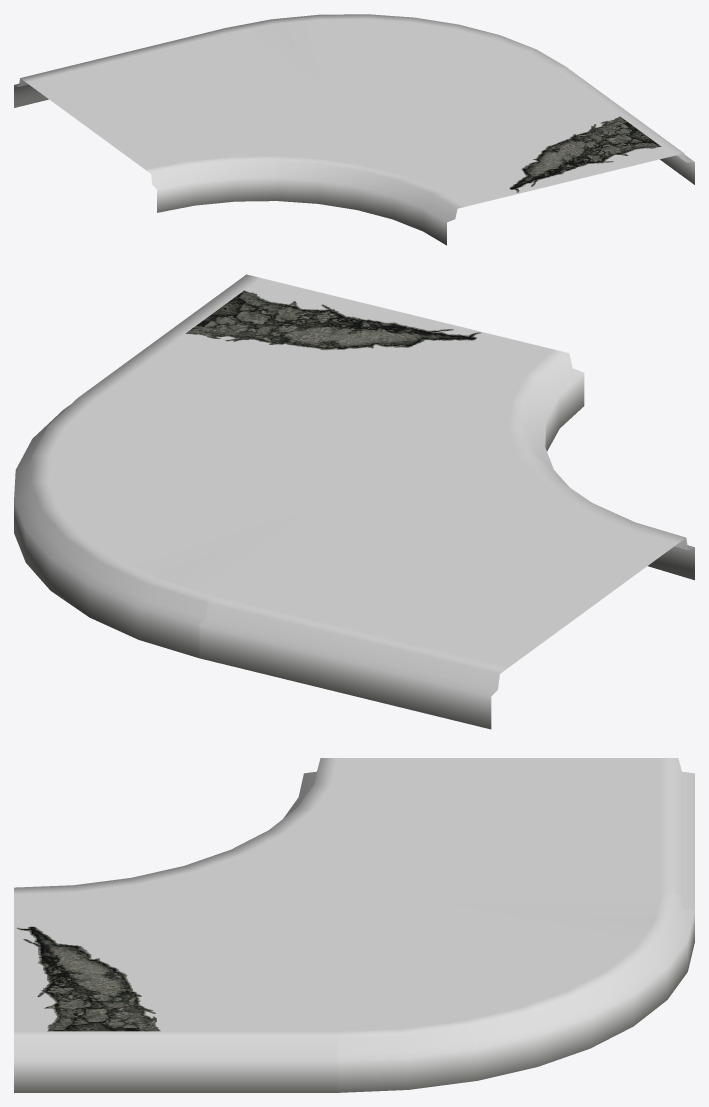
File: SWSingleCorner02.FBX
3 renders of one model, top to bottom at view 1: azimuth 30°, elevation 25°; view 2: azimuth 150°, elevation 25°; view 3: azimuth 270°, elevation 25°, orthographic. The views are drawn at different scales.
Parts seen in each view (by area): view 1: Slab, Cracks; view 2: Slab, Cracks; view 3: Slab, Cracks.
Part boxes in pixels (bbox=[...]): Slab: bbox=[14, 14, 694, 245]; Cracks: bbox=[509, 116, 661, 192]; Slab: bbox=[14, 274, 694, 729]; Cracks: bbox=[185, 290, 480, 350]; Slab: bbox=[14, 758, 694, 1092]; Cracks: bbox=[16, 926, 160, 1031].
Size of what is drawn, in the model's own units: 5.39 by 0.4144 by 5.39.
